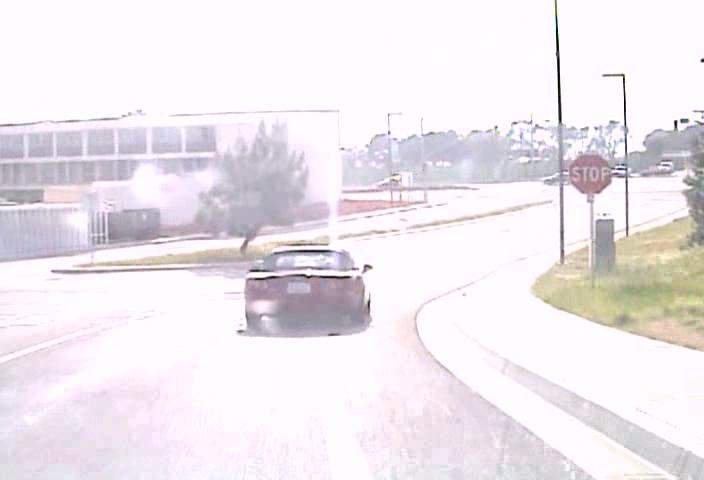stop: (568, 153, 612, 195)
